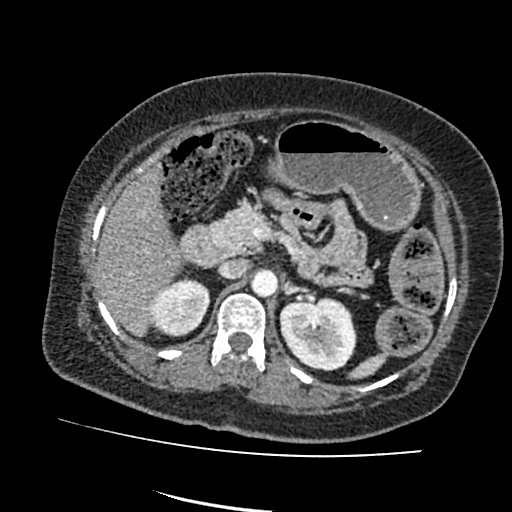aorta: (251, 279, 268, 298)
